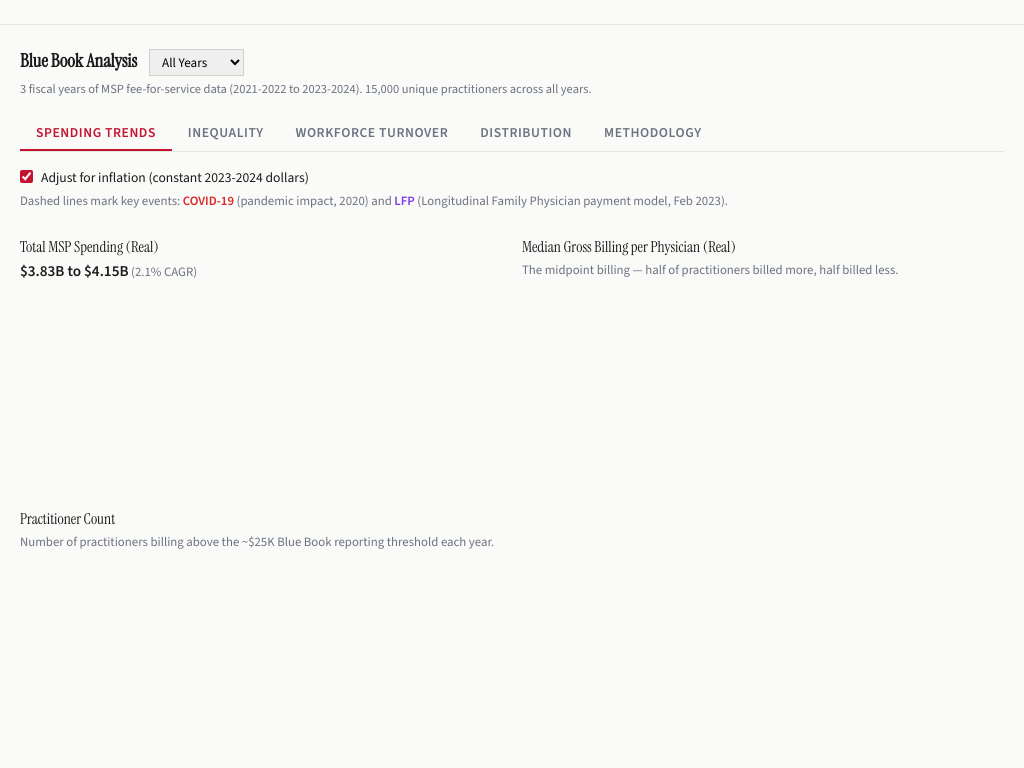
BillingTrends › shows Pareto table in Inequality tab
Click the button "Inequality".
click(226, 133)  # box [172, 115, 280, 151]
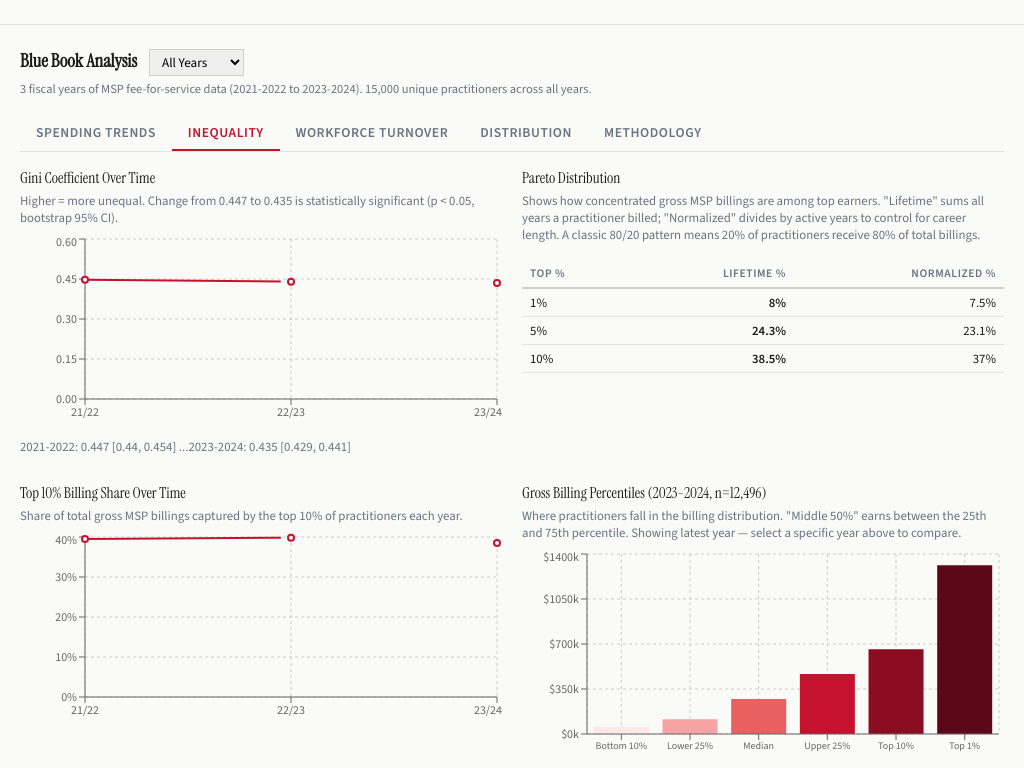
Expected: the heading "Pareto Distribution" is shown, [522, 168, 620, 188]
Expected: the heading "Gini Coefficient Over Time" is shown, [20, 168, 155, 188]
